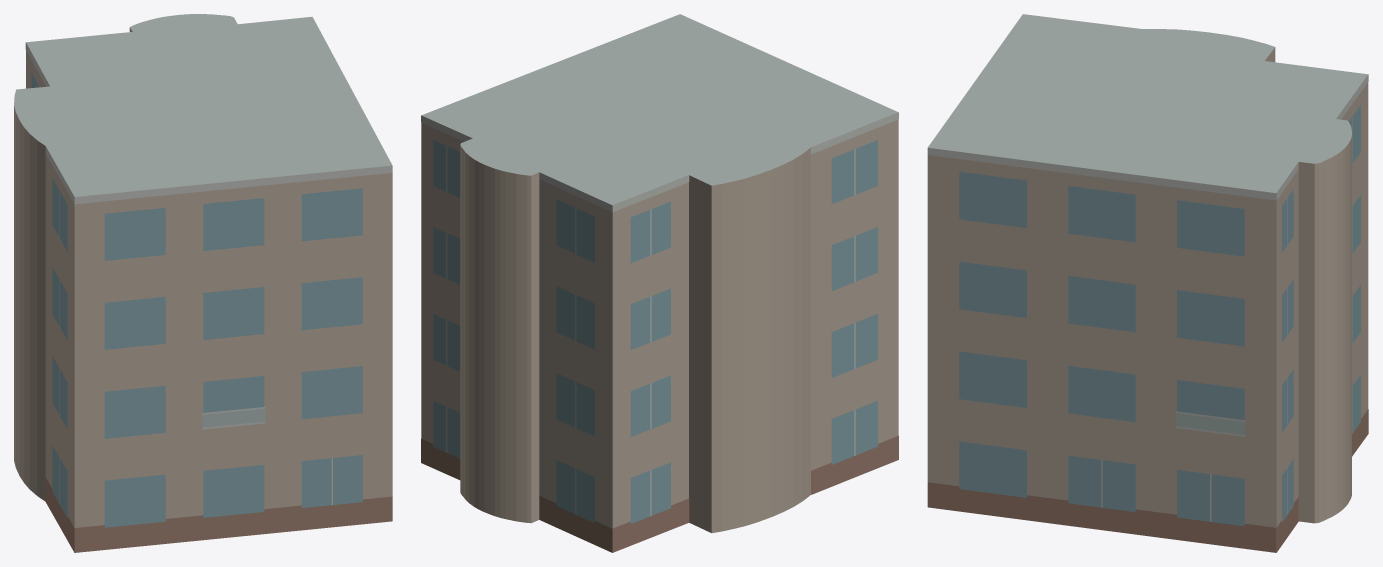
Rendered from survey-upis-32726620.glb.
3 views of the same model, side by side, from view 1: azimuth 30°, elevation 25°; view 2: azimuth 150°, elevation 25°; view 3: azimuth 270°, elevation 25° (orthographic). The views are drawn at different scales.
Parts seen in each view (by area): view 1: survey-upis-32726620.tmp; view 2: survey-upis-32726620.tmp; view 3: survey-upis-32726620.tmp.
Boxes of the visible parts, box(x1,y1,x2,y2) form: survey-upis-32726620.tmp: box(14, 14, 392, 552); survey-upis-32726620.tmp: box(421, 14, 898, 552); survey-upis-32726620.tmp: box(927, 14, 1368, 552).
Size of the model in its own units: 12.83 by 12 by 13.34.
